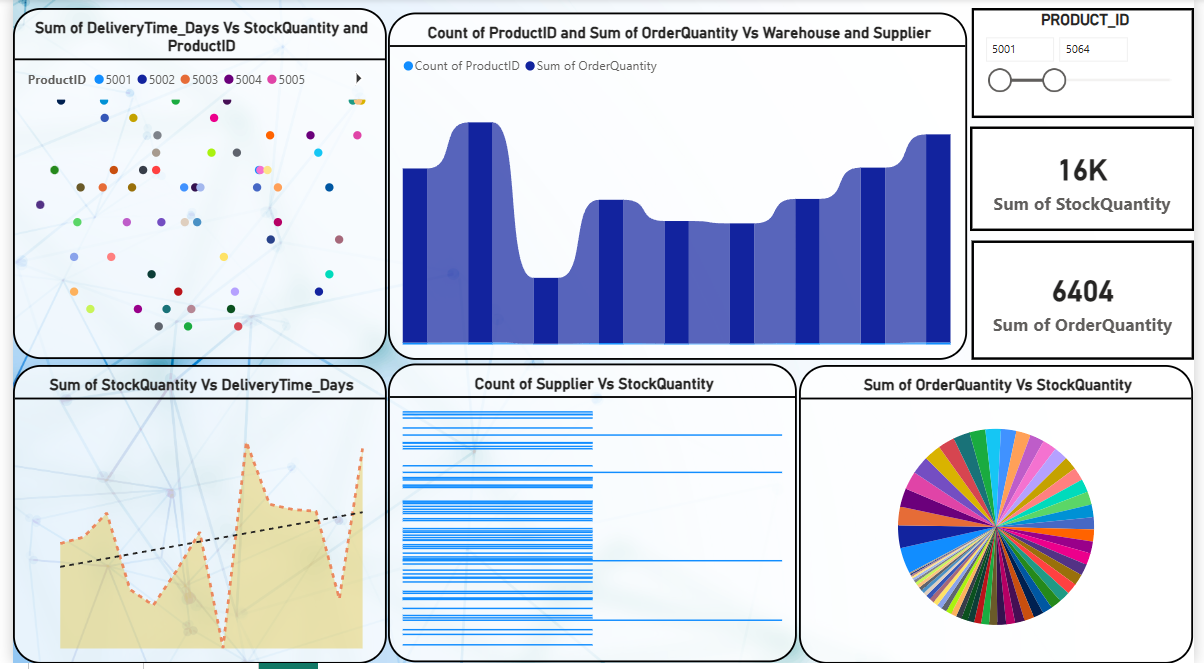

The page's visual inventory and layout, read from the dashboard file:
{"tool":"powerbi","page":{"name":"Page 3","canvas":[1280,720],"ordinal":2},"visuals":[{"type":"clusteredBarChart","title":"Count of Supplier Vs StockQuantity","fields":{"Category":["supply_chain_inventory_dataset.StockQuantity"],"Y":["CountNonNull(supply_chain_inventory_dataset.Supplier)"]},"box":[407.1,395.9,443.5,324.1],"z":0},{"type":"lineChart","title":"Sum of DeliveryTime_Days Vs StockQuantity and ProductID","fields":{"Y":["Sum(supply_chain_inventory_dataset.DeliveryTime_Days)"],"Category":["supply_chain_inventory_dataset.StockQuantity"],"Series":["supply_chain_inventory_dataset.ProductID"]},"box":[0,10.1,405.1,380.8],"z":1000},{"type":"lineChart","title":"Sum of StockQuantity Vs DeliveryTime_Days","fields":{"Category":["supply_chain_inventory_dataset.DeliveryTime_Days"],"Y":["Sum(supply_chain_inventory_dataset.StockQuantity)"]},"box":[0,397,405.1,324.1],"z":2000},{"type":"pieChart","title":"Sum of OrderQuantity Vs StockQuantity","fields":{"Y":["Sum(supply_chain_inventory_dataset.OrderQuantity)"],"Category":["supply_chain_inventory_dataset.StockQuantity"]},"box":[852.7,397,427.3,324.1],"z":3000},{"type":"ribbonChart","title":"Count of ProductID and Sum of OrderQuantity Vs Warehouse and Supplier","fields":{"Category":["supply_chain_inventory_dataset.Warehouse","supply_chain_inventory_dataset.Supplier"],"Y":["CountNonNull(supply_chain_inventory_dataset.ProductID)","Sum(supply_chain_inventory_dataset.OrderQuantity)"]},"box":[407.1,14.2,627.8,376.7],"z":4000},{"type":"card","fields":{"Values":["Sum(supply_chain_inventory_dataset.OrderQuantity)"]},"box":[1039,261.3,241,129.6],"z":5000},{"type":"card","fields":{"Values":["Sum(supply_chain_inventory_dataset.StockQuantity)"]},"box":[1037,137.7,243,113.4],"z":6000},{"type":"slicer","title":"PRODUCT_ID","fields":{"Values":["supply_chain_inventory_dataset.ProductID"]},"box":[1039,10.1,241,119.5],"z":7000}]}

Visuals, with their boxes in screenshot pixels (x1, y1, x2, y2), scaled from the page's 1280x720 canvas onto the 1204x669 screenshot:
"Count of Supplier Vs StockQuantity" clusteredBarChart: detection(383, 368, 800, 668)
"Sum of DeliveryTime_Days Vs StockQuantity and ProductID" lineChart: detection(0, 9, 381, 363)
"Sum of StockQuantity Vs DeliveryTime_Days" lineChart: detection(0, 369, 381, 668)
"Sum of OrderQuantity Vs StockQuantity" pieChart: detection(802, 369, 1203, 668)
"Count of ProductID and Sum of OrderQuantity Vs Warehouse and Supplier" ribbonChart: detection(383, 13, 973, 363)
card - Sum(supply_chain_inventory_dataset.OrderQuantity): detection(977, 243, 1203, 363)
card - Sum(supply_chain_inventory_dataset.StockQuantity): detection(975, 128, 1203, 233)
"PRODUCT_ID" slicer: detection(977, 9, 1203, 120)
